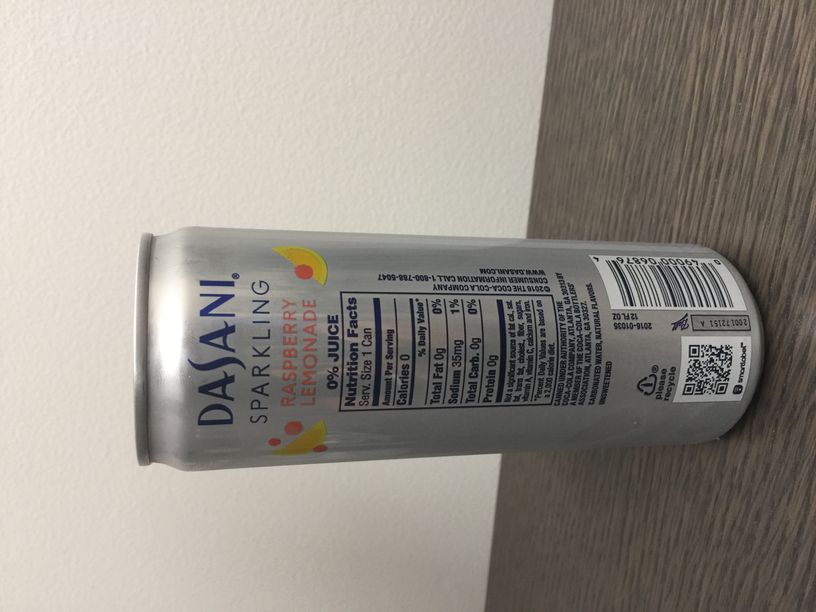lemonade: (133, 226, 764, 473)
